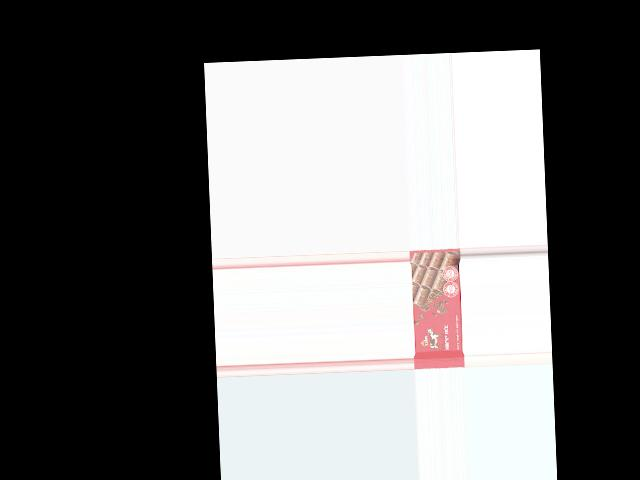chocolate: (410, 249, 465, 370)
